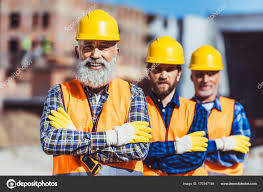helmet: (78, 13, 120, 44), (149, 37, 185, 68), (195, 47, 222, 74)
vest: (63, 84, 139, 175), (147, 97, 205, 175), (209, 100, 243, 170)
